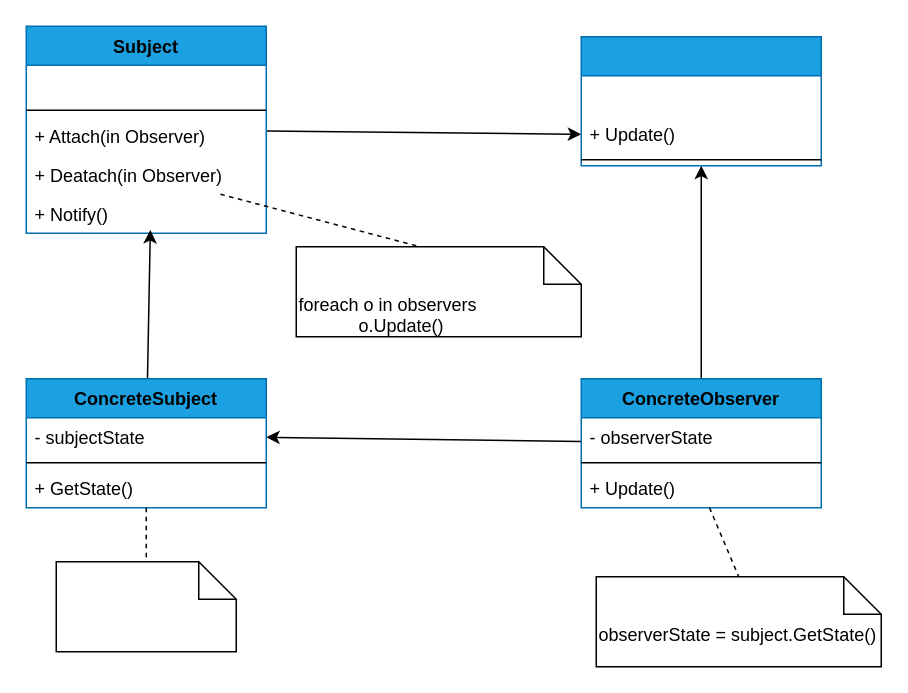
Image size: 908x693. Some labels were removed from this diagram. The shapes that lost their labels are listed below. From the top down, each one's box as (x1, y1, x2, y2) in pixels, then its label:
(580, 35, 821, 166): Observer
(55, 560, 236, 652): return subjectState
